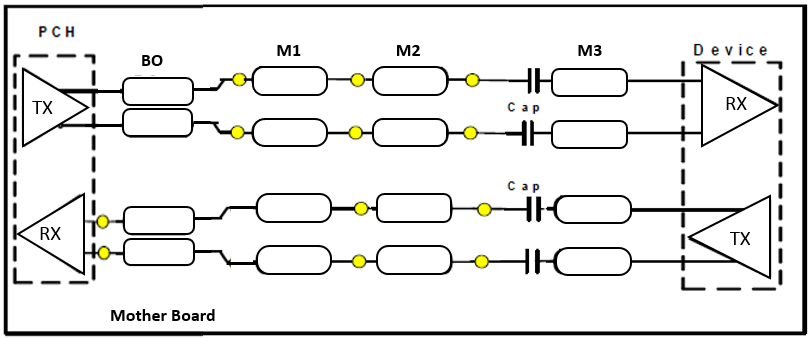capacitor: (521, 62, 544, 98), (517, 118, 538, 151), (522, 245, 541, 278), (526, 194, 543, 227)
circle: (228, 122, 247, 142), (460, 124, 479, 143), (476, 200, 494, 220), (231, 70, 248, 91), (473, 253, 492, 271), (348, 124, 365, 142), (354, 252, 367, 272), (351, 70, 364, 89), (464, 73, 480, 88), (354, 201, 370, 216)
dotted_rectangle: (680, 61, 786, 295), (13, 52, 97, 288)
oval: (548, 117, 629, 153), (553, 193, 633, 227), (376, 191, 453, 226), (376, 244, 455, 277), (251, 66, 330, 98), (371, 115, 450, 147), (256, 192, 333, 224), (555, 247, 634, 278), (258, 246, 332, 279), (123, 204, 197, 237), (251, 119, 332, 149), (552, 67, 630, 98), (372, 66, 450, 96), (122, 236, 197, 267), (121, 108, 197, 137), (120, 76, 195, 105)
triangle: (688, 192, 771, 279), (701, 62, 778, 149), (19, 66, 89, 150), (18, 190, 85, 277)
